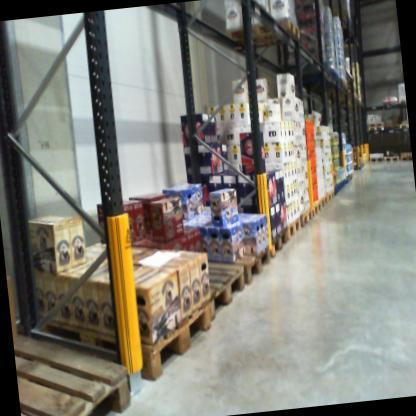pallet: (27, 261, 216, 397), (10, 299, 135, 416), (141, 233, 251, 325), (161, 233, 273, 294), (220, 13, 302, 52), (264, 224, 291, 259), (285, 216, 303, 240), (298, 205, 314, 227), (308, 198, 324, 220), (383, 149, 400, 164), (398, 148, 412, 163), (383, 121, 399, 132), (366, 119, 385, 128), (320, 190, 329, 209), (382, 99, 400, 108), (325, 186, 335, 202), (368, 151, 383, 161), (368, 125, 384, 132), (398, 123, 409, 131), (397, 97, 406, 105)
